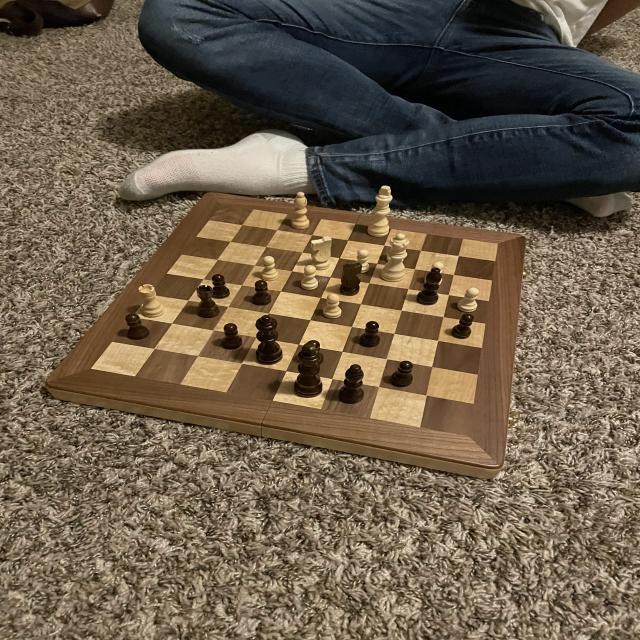bishop: (336, 362, 367, 407), (415, 267, 443, 306)
black-bishop: (292, 342, 324, 399)
black-king: (339, 261, 364, 296)
black-knight: (122, 311, 152, 341), (387, 359, 416, 389), (356, 320, 383, 350), (449, 312, 476, 340), (208, 272, 232, 300), (250, 279, 274, 307), (220, 322, 243, 351), (304, 339, 324, 364)
black-pawn: (252, 313, 286, 366)
black-queen: (193, 284, 222, 320)
black-rook: (289, 189, 313, 233)
white-bishop: (365, 182, 395, 238)
white-king: (309, 235, 334, 272)
white-knight: (317, 292, 349, 323), (454, 286, 484, 314), (256, 253, 282, 284), (422, 259, 448, 289), (351, 246, 374, 276), (299, 264, 320, 292), (386, 244, 405, 264)
white-pawn: (377, 232, 413, 286)
white-queen: (136, 282, 170, 321)
